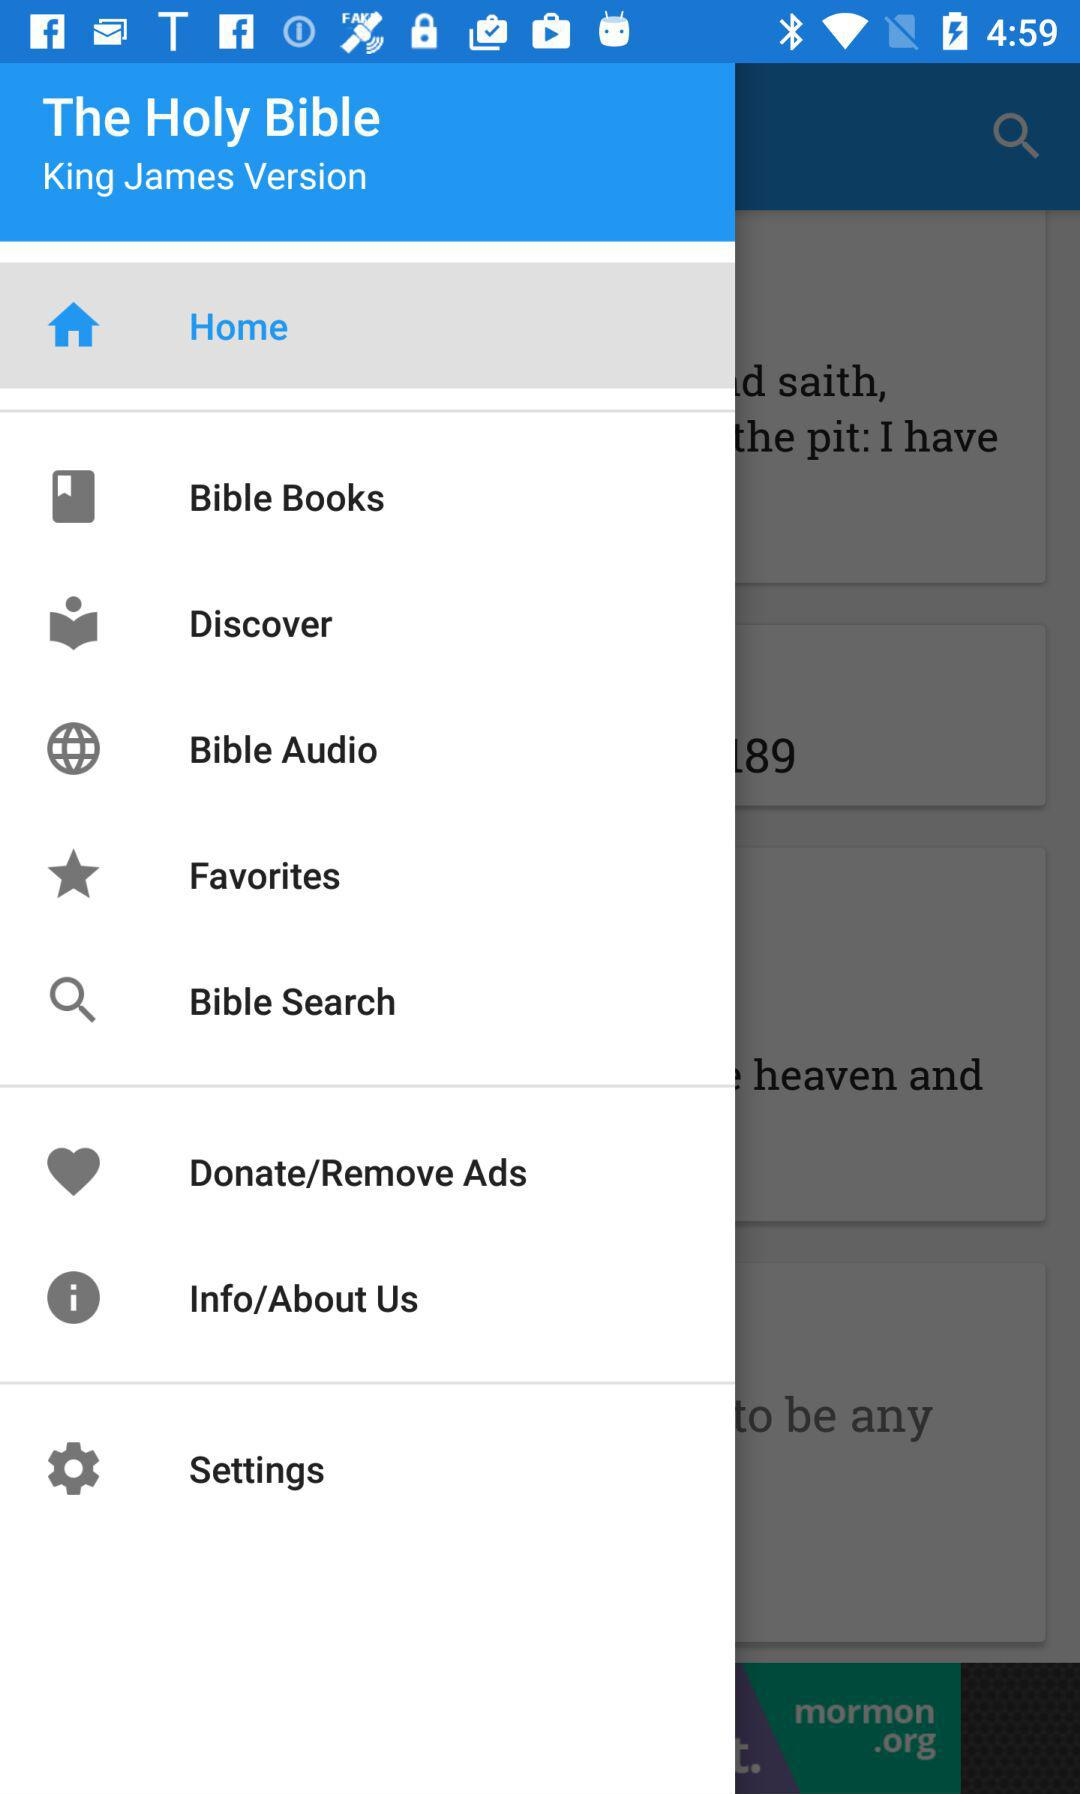Drawer: (1, 64, 735, 1794)
Icon: (47, 1270, 102, 1325), (49, 595, 100, 654), (47, 1442, 102, 1495), (47, 1146, 102, 1198), (47, 848, 102, 900), (47, 301, 102, 349), (53, 470, 97, 525), (50, 976, 97, 1025)
Image: (47, 721, 102, 777)
Text: (40, 95, 382, 150), (44, 160, 366, 199), (190, 1157, 529, 1190), (191, 1281, 420, 1316), (190, 984, 396, 1017), (190, 730, 380, 766), (190, 481, 386, 514), (190, 1454, 325, 1492), (190, 860, 342, 892), (190, 609, 334, 639), (191, 311, 290, 343)
UpperTaskBar: (1, 1, 1080, 64)
